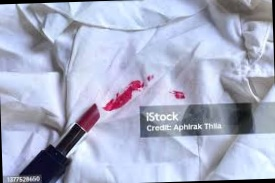lipstick: (100, 83, 135, 107), (124, 77, 156, 95), (167, 87, 188, 104), (145, 71, 154, 81)
